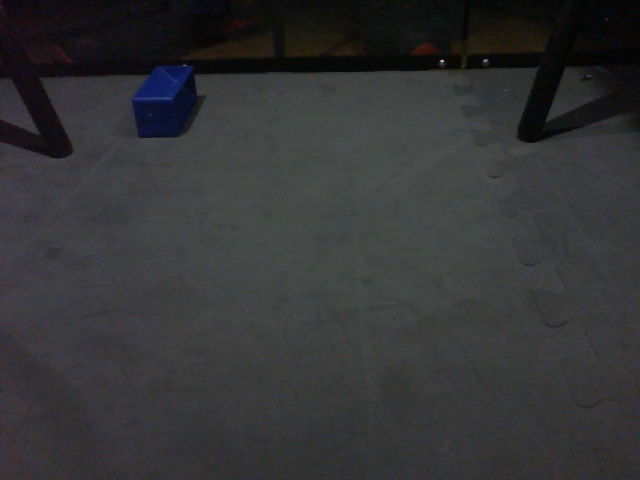BlueSample: (129, 63, 200, 141)
